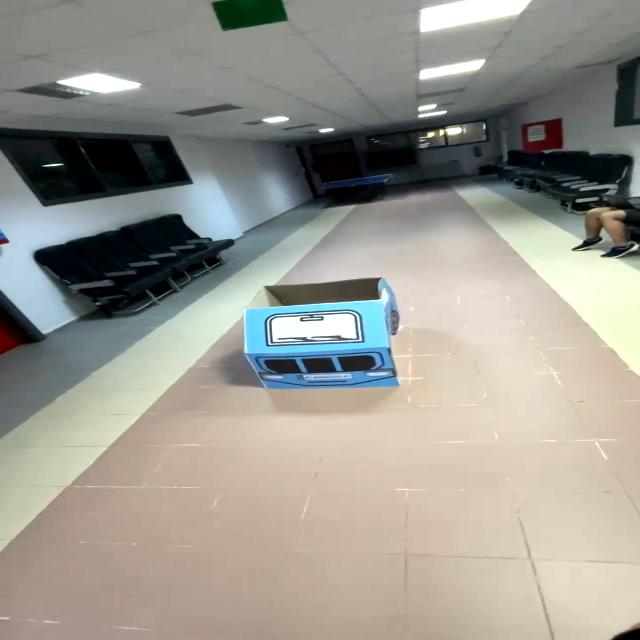blue_car: (235, 267, 418, 404)
